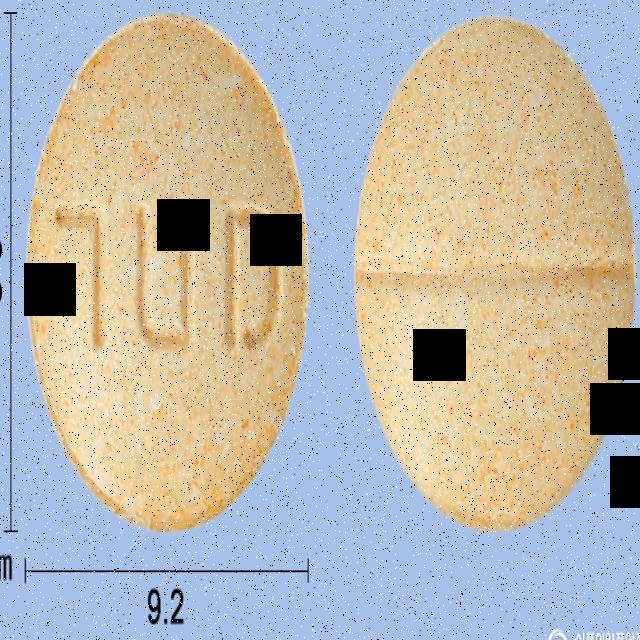Doxymedi: (26, 12, 311, 535)
